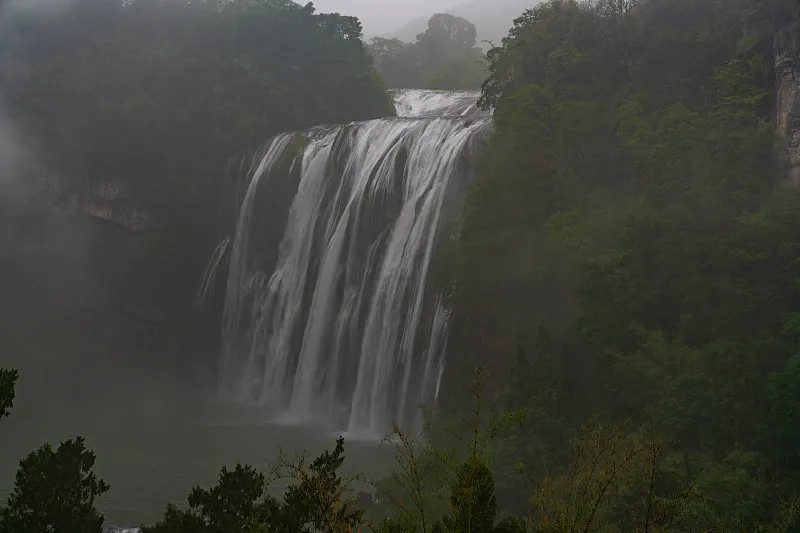Huangguoshu: (213, 89, 492, 442)
